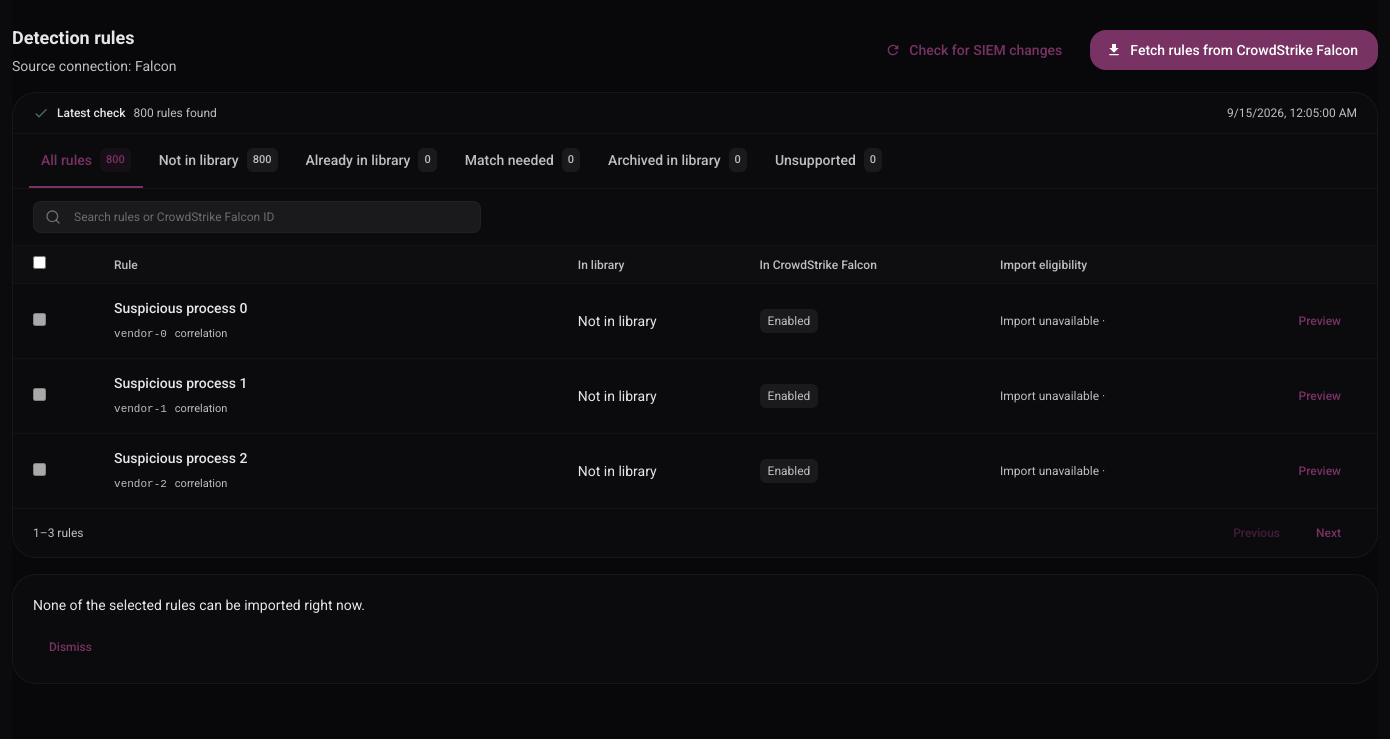
NativeRulesPanel — span-pages selection under a narrowing filter (C1) › offers "select all matching" with no search and no relationship filter active
// The span-pages link only renders once something on the page is selected.
Click the checkbox named "Select Suspicious process 0".
click(40, 320)  # box [33,313,46,326]
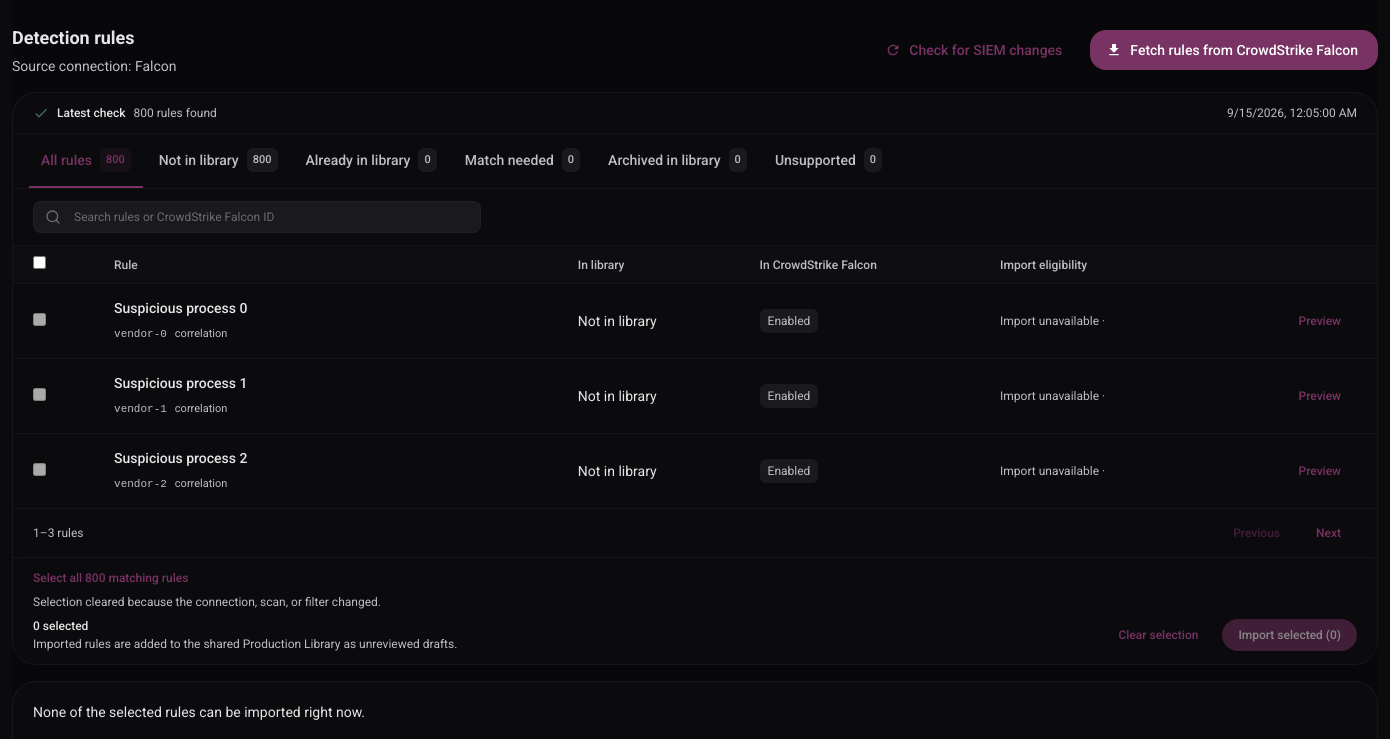
Expected: the button "Select all 800 matching rules" is shown, [33,570,188,586]
